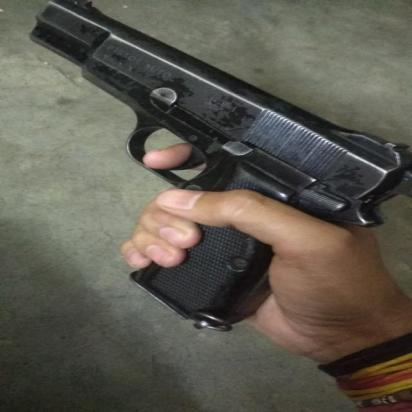Gun: (16, 0, 412, 337)
